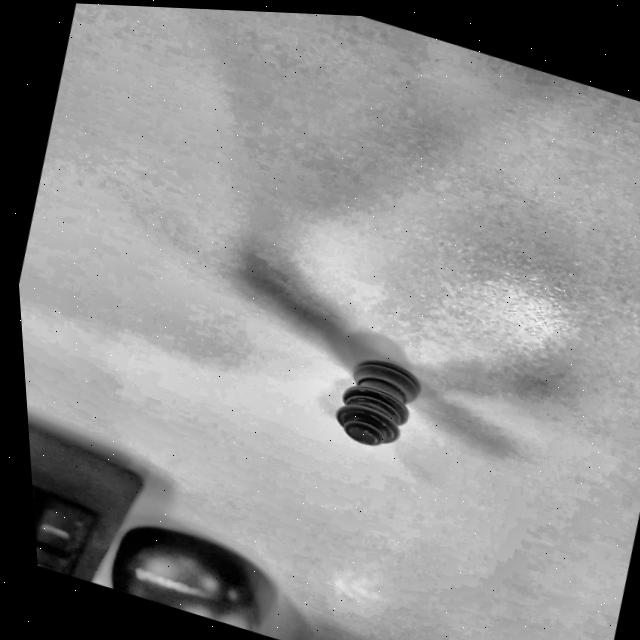black-queen: (301, 318, 463, 480)
